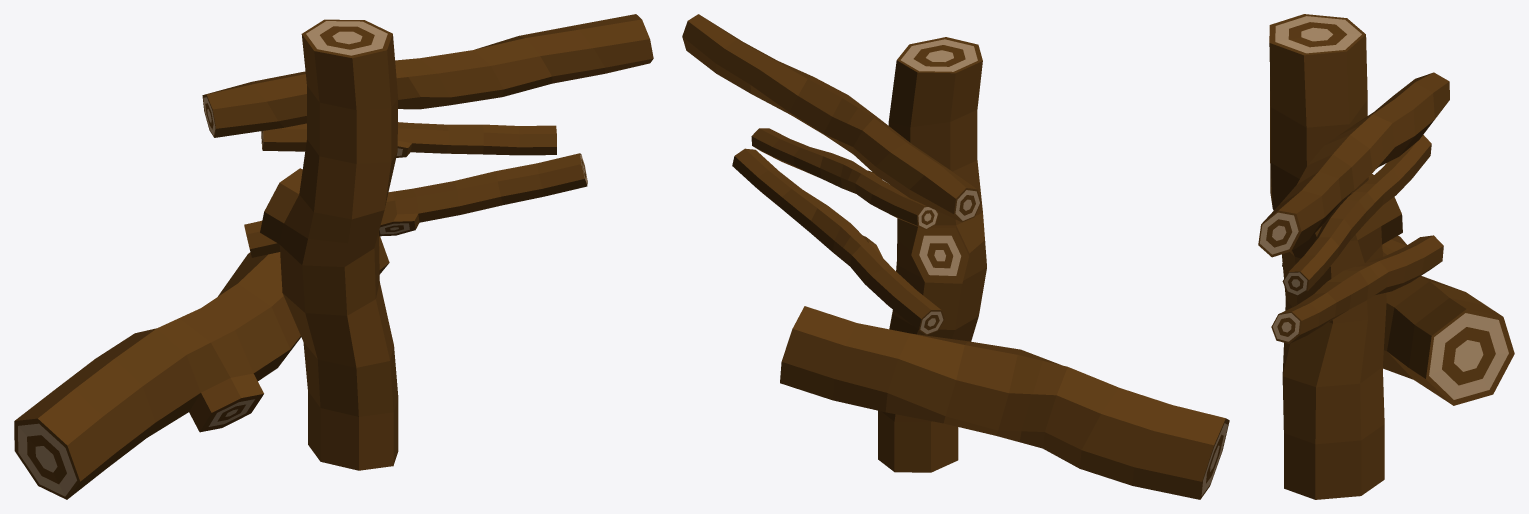
The model's file is LogPile01.fbx.
The picture shows the model from 3 angles, left to right: view 1: azimuth 30°, elevation 25°; view 2: azimuth 150°, elevation 25°; view 3: azimuth 270°, elevation 25°; orthographic projection. The views are drawn at different scales.
Parts seen in each view (by area): view 1: Cylinder; view 2: Cylinder; view 3: Cylinder.
Part boxes in pixels (box(x1,y1,x2,y2)): Cylinder: box(14, 14, 653, 499); Cylinder: box(682, 14, 1229, 499); Cylinder: box(1258, 14, 1514, 499).
Size of the model in its own units: 1561 by 1067 by 563.
